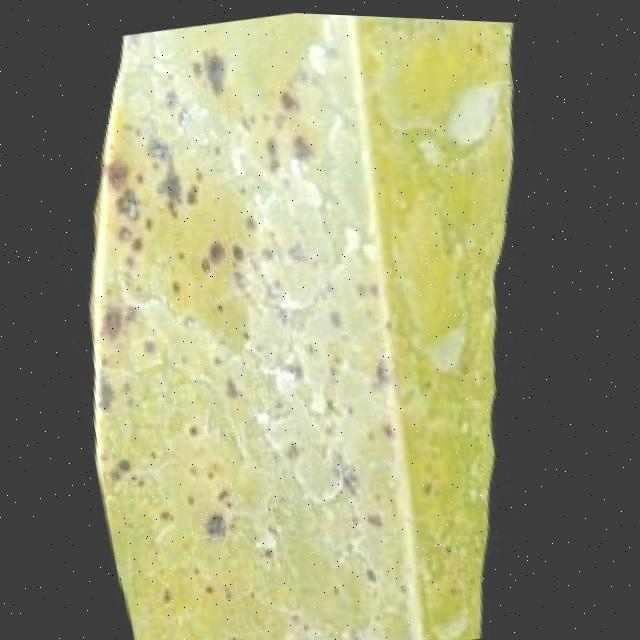mite: (101, 443, 147, 492), (202, 43, 233, 92), (112, 181, 146, 221), (107, 449, 140, 484), (202, 504, 233, 536), (201, 627, 252, 640), (207, 235, 229, 260), (115, 452, 136, 472), (141, 333, 159, 353)
